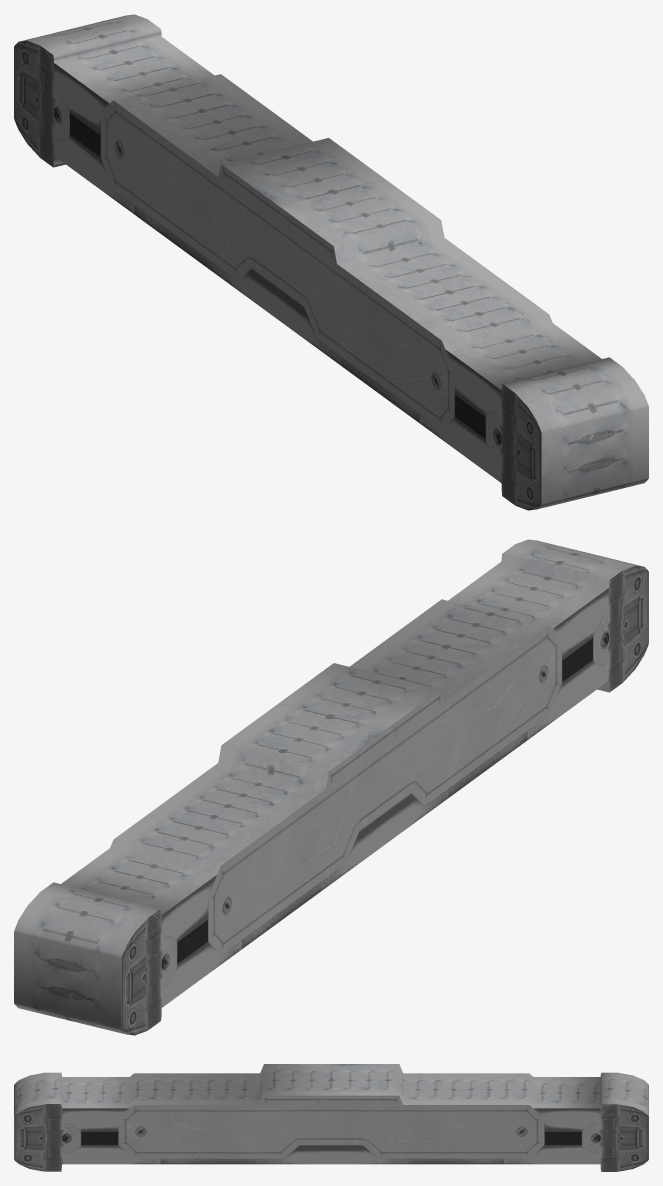
File: SM_PillarS03.fbx
3 views of the same model, one above another, from view 1: azimuth 30°, elevation 25°; view 2: azimuth 150°, elevation 25°; view 3: azimuth 270°, elevation 25° (orthographic). The views are drawn at different scales.
Parts seen in each view (by area): view 1: SM_PillarS03_LOD0; view 2: SM_PillarS03_LOD0; view 3: SM_PillarS03_LOD0.
Boxes of the visible parts, x1,y1,x2,y2 form: SM_PillarS03_LOD0: [14, 14, 648, 510]; SM_PillarS03_LOD0: [14, 539, 648, 1035]; SM_PillarS03_LOD0: [14, 1064, 648, 1171].
Bounding box in the file's own units: 40 × 340 × 45.
Materials: 2 (2 with a texture image).
